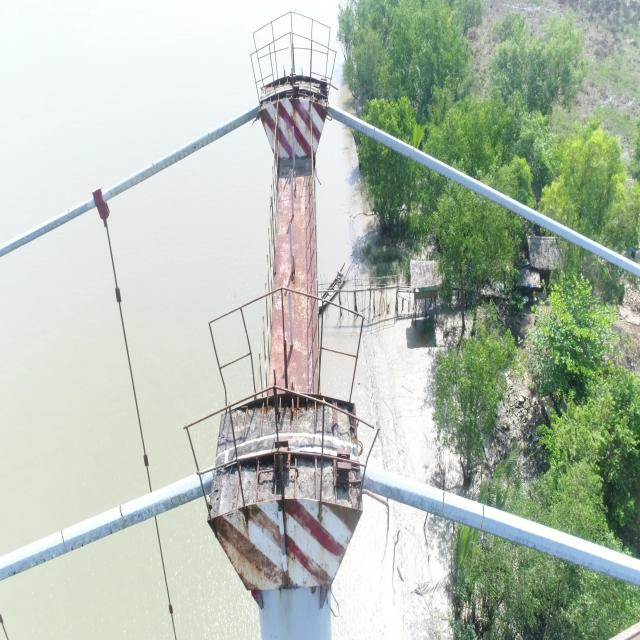crack: (61, 529, 67, 553), (480, 505, 484, 530), (441, 492, 445, 516), (120, 505, 124, 529), (208, 132, 212, 143), (152, 163, 155, 175), (68, 208, 71, 220), (412, 147, 414, 160), (373, 126, 375, 138)
